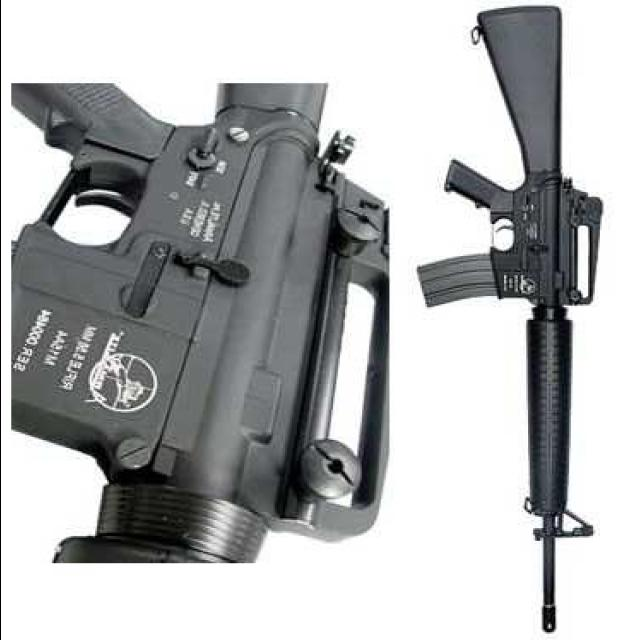heavyweapon: (1, 88, 383, 568), (391, 9, 610, 633)
